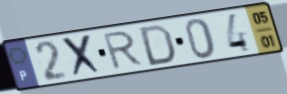0: (183, 16, 219, 61)
2: (33, 39, 70, 83)
4: (223, 12, 254, 54)
D: (138, 23, 178, 68)
R: (101, 28, 146, 72)
X: (59, 32, 105, 80)
